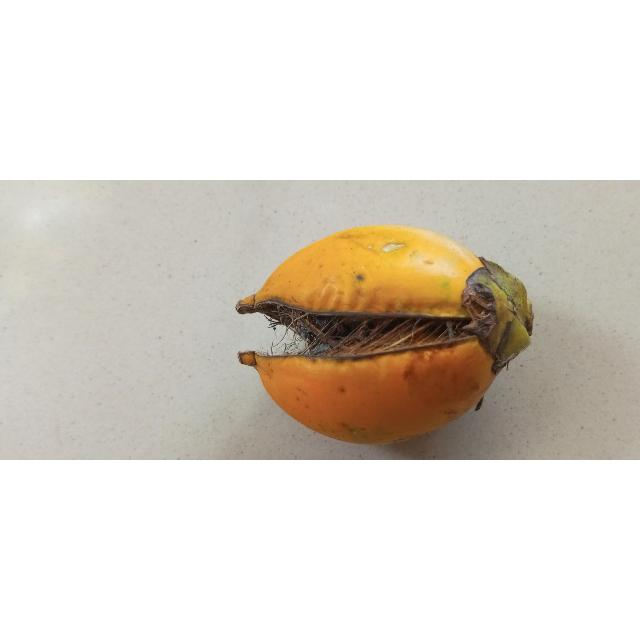damaged: (236, 225, 534, 445)
